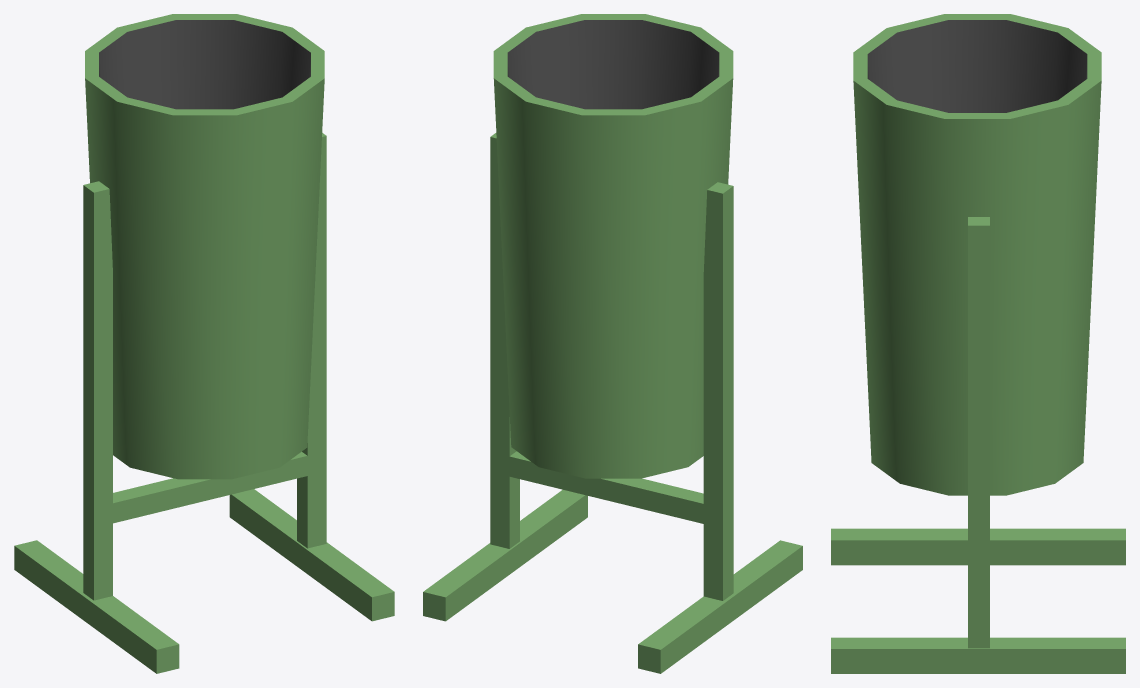
Rendered from SM_Trash_03.fbx.
The picture shows the model from 3 angles, left to right: view 1: azimuth 30°, elevation 25°; view 2: azimuth 150°, elevation 25°; view 3: azimuth 270°, elevation 25°; orthographic projection. The views are drawn at different scales.
Visible parts, largest first — view 1: SM_Trash_03; view 2: SM_Trash_03; view 3: SM_Trash_03.
Boxes of the visible parts, <box> form: SM_Trash_03: <box>14,14,394,673</box>; SM_Trash_03: <box>423,14,802,673</box>; SM_Trash_03: <box>831,14,1125,673</box>.
Bounding box in the file's own units: 31.69 × 67.26 × 32.82.
